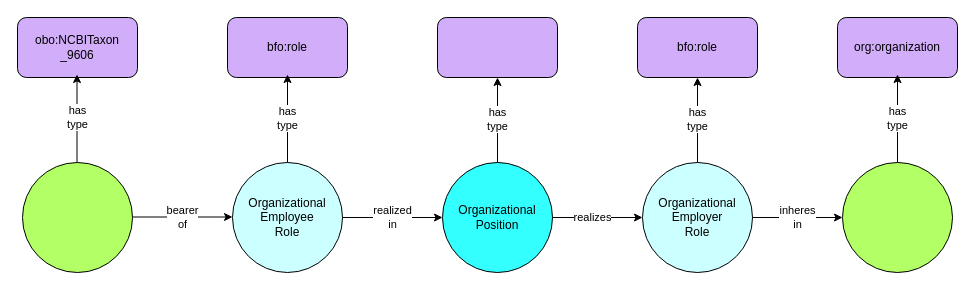
Some shapes in this 975 by 290 pixel diagram are drawn without their labels. The shapes that lost their labels are listed below. From the top down, each one's centre as x and y in pixels, then its label:
the point at 497,47: bfo:occurrent
the point at 77,217: Person
the point at 897,217: Organization
